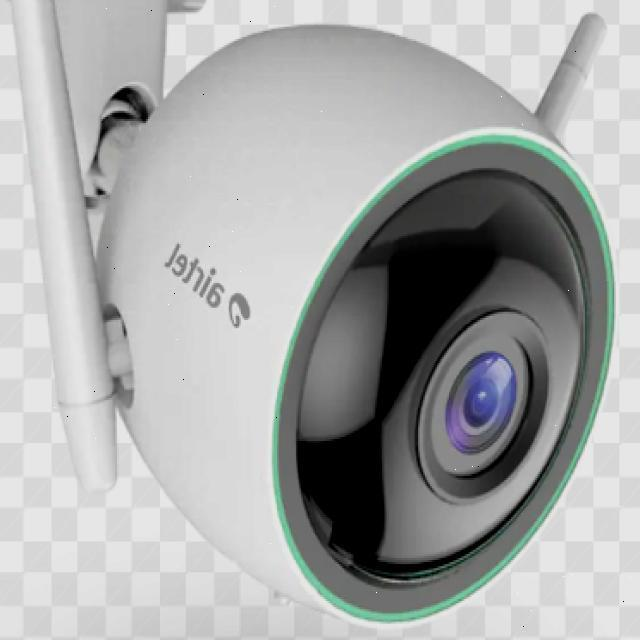cctv: (79, 63, 638, 636)
